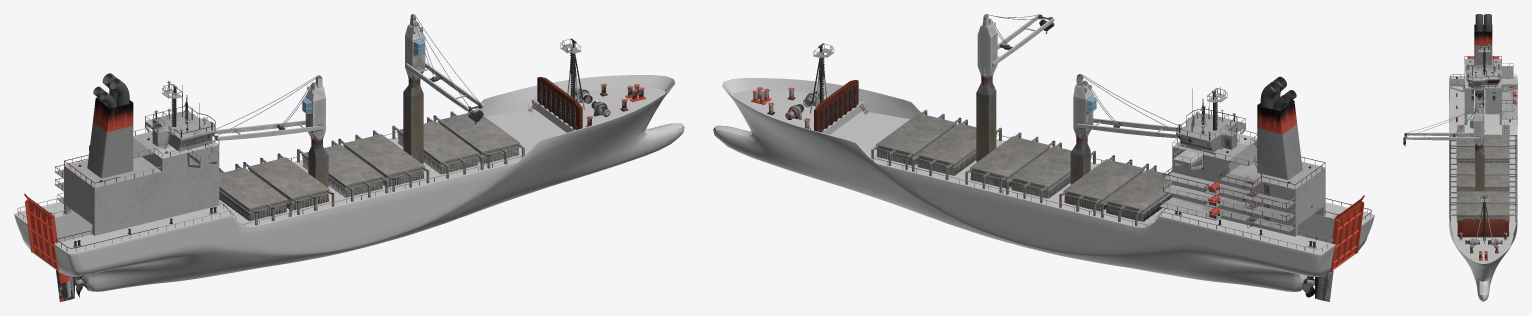
File: ship1.fbx
3 renders of one model, left to right at view 1: azimuth 30°, elevation 25°; view 2: azimuth 150°, elevation 25°; view 3: azimuth 270°, elevation 25°, orthographic. The views are drawn at different scales.
Visible parts, largest first — view 1: cargo2:main_lp_main_lp, cargo1:box_lp_box_lp, cargo1:Obj_lp_Obj_lp, cargo1:building_lp_building_lp, cargo1:crane_lp_crane_lp, cargo1:details1_lp_details1_lp, cargo1:pipe_lp_pipe_lp, cargo1:details2_lp_details2_lp, cargo1:crane_details2_lp_crane_details2_lp, cargo1:deckhouse_lp_deckhouse_lp, cargo1:railings1_lp_railings1_lp, cargo1:doors_lp_doors_lp (+6 smaller); view 2: cargo2:main_lp_main_lp, cargo1:box_lp_box_lp, cargo1:Obj_lp_Obj_lp, cargo1:building_lp_building_lp, cargo1:crane_lp_crane_lp, cargo1:platforms_lp_platforms_lp, cargo1:details1_lp_details1_lp, cargo1:pipe_lp_pipe_lp, cargo1:details2_lp_details2_lp, cargo1:railings1_lp_railings1_lp, cargo1:crane_details2_lp_crane_details2_lp, cargo1:deckhouse_lp_deckhouse_lp (+7 smaller); view 3: cargo1:box_lp_box_lp, cargo1:Obj_lp_Obj_lp, cargo1:details1_lp_details1_lp, cargo1:building_lp_building_lp, cargo2:main_lp_main_lp, cargo1:shield_lp_shield_lp, cargo1:crane_lp_crane_lp, cargo1:railings1_lp_railings1_lp, cargo1:crane_details2_lp_crane_details2_lp, cargo1:platforms_lp_platforms_lp, cargo1:pipe_lp_pipe_lp, cargo1:deckhouse_lp_deckhouse_lp (+7 smaller).
Part boxes in pixels (x1,y1,x2,y2): cargo2:main_lp_main_lp: (14,87,684,291); cargo1:box_lp_box_lp: (219,111,519,220); cargo1:Obj_lp_Obj_lp: (15,75,675,271); cargo1:building_lp_building_lp: (64,131,219,235); cargo1:crane_lp_crane_lp: (302,16,425,187); cargo1:details1_lp_details1_lp: (74,41,644,285); cargo1:pipe_lp_pipe_lp: (87,97,133,178); cargo1:details2_lp_details2_lp: (73,38,645,297); cargo1:crane_details2_lp_crane_details2_lp: (214,22,483,140); cargo1:deckhouse_lp_deckhouse_lp: (152,111,215,151); cargo1:railings1_lp_railings1_lp: (17,38,581,248); cargo1:doors_lp_doors_lp: (24,193,58,271); cargo2:main_lp_main_lp: (713,88,1374,291); cargo1:box_lp_box_lp: (876,113,1172,221); cargo1:Obj_lp_Obj_lp: (722,78,1374,272); cargo1:building_lp_building_lp: (1172,133,1325,236); cargo1:crane_lp_crane_lp: (976,16,1096,184); cargo1:platforms_lp_platforms_lp: (1159,144,1295,232); cargo1:details1_lp_details1_lp: (752,46,1315,286); cargo1:pipe_lp_pipe_lp: (1257,100,1302,179); cargo1:details2_lp_details2_lp: (751,43,1316,297); cargo1:railings1_lp_railings1_lp: (813,43,1371,249); cargo1:crane_details2_lp_crane_details2_lp: (989,15,1182,138); cargo1:deckhouse_lp_deckhouse_lp: (1176,113,1237,153); cargo1:box_lp_box_lp: (1457,134,1509,222); cargo1:Obj_lp_Obj_lp: (1449,76,1517,263); cargo1:details1_lp_details1_lp: (1449,44,1516,259); cargo1:building_lp_building_lp: (1464,59,1501,124); cargo2:main_lp_main_lp: (1449,77,1517,301); cargo1:shield_lp_shield_lp: (1457,219,1508,237); cargo1:crane_lp_crane_lp: (1470,103,1484,191); cargo1:railings1_lp_railings1_lp: (1449,45,1517,234); cargo1:crane_details2_lp_crane_details2_lp: (1403,90,1485,146); cargo1:platforms_lp_platforms_lp: (1474,65,1517,119); cargo1:pipe_lp_pipe_lp: (1474,24,1492,65); cargo1:deckhouse_lp_deckhouse_lp: (1466,65,1500,88).
Bounding box in the file's own units: 127 × 39.75 × 32.07.
